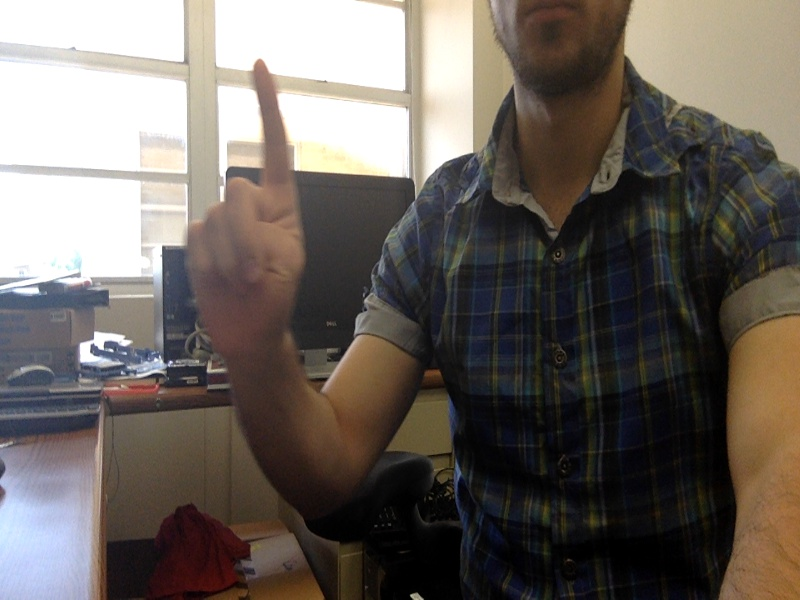1-hand: (183, 59, 308, 356)
